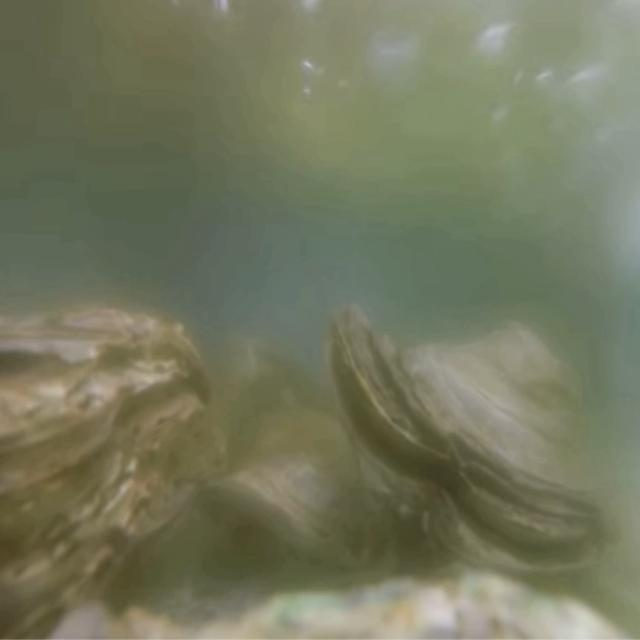Oyster-Closed: (1, 303, 229, 640)
Oyster-Indeterminate: (207, 409, 398, 575)
Oyster-Open: (322, 306, 635, 586)
